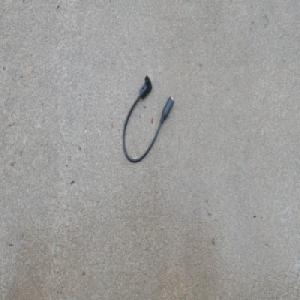Wire: (121, 74, 174, 164)
